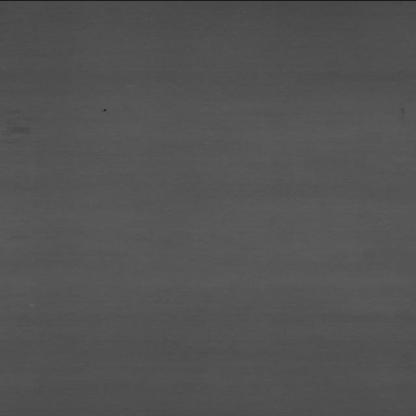inclusion: (92, 101, 115, 120)
